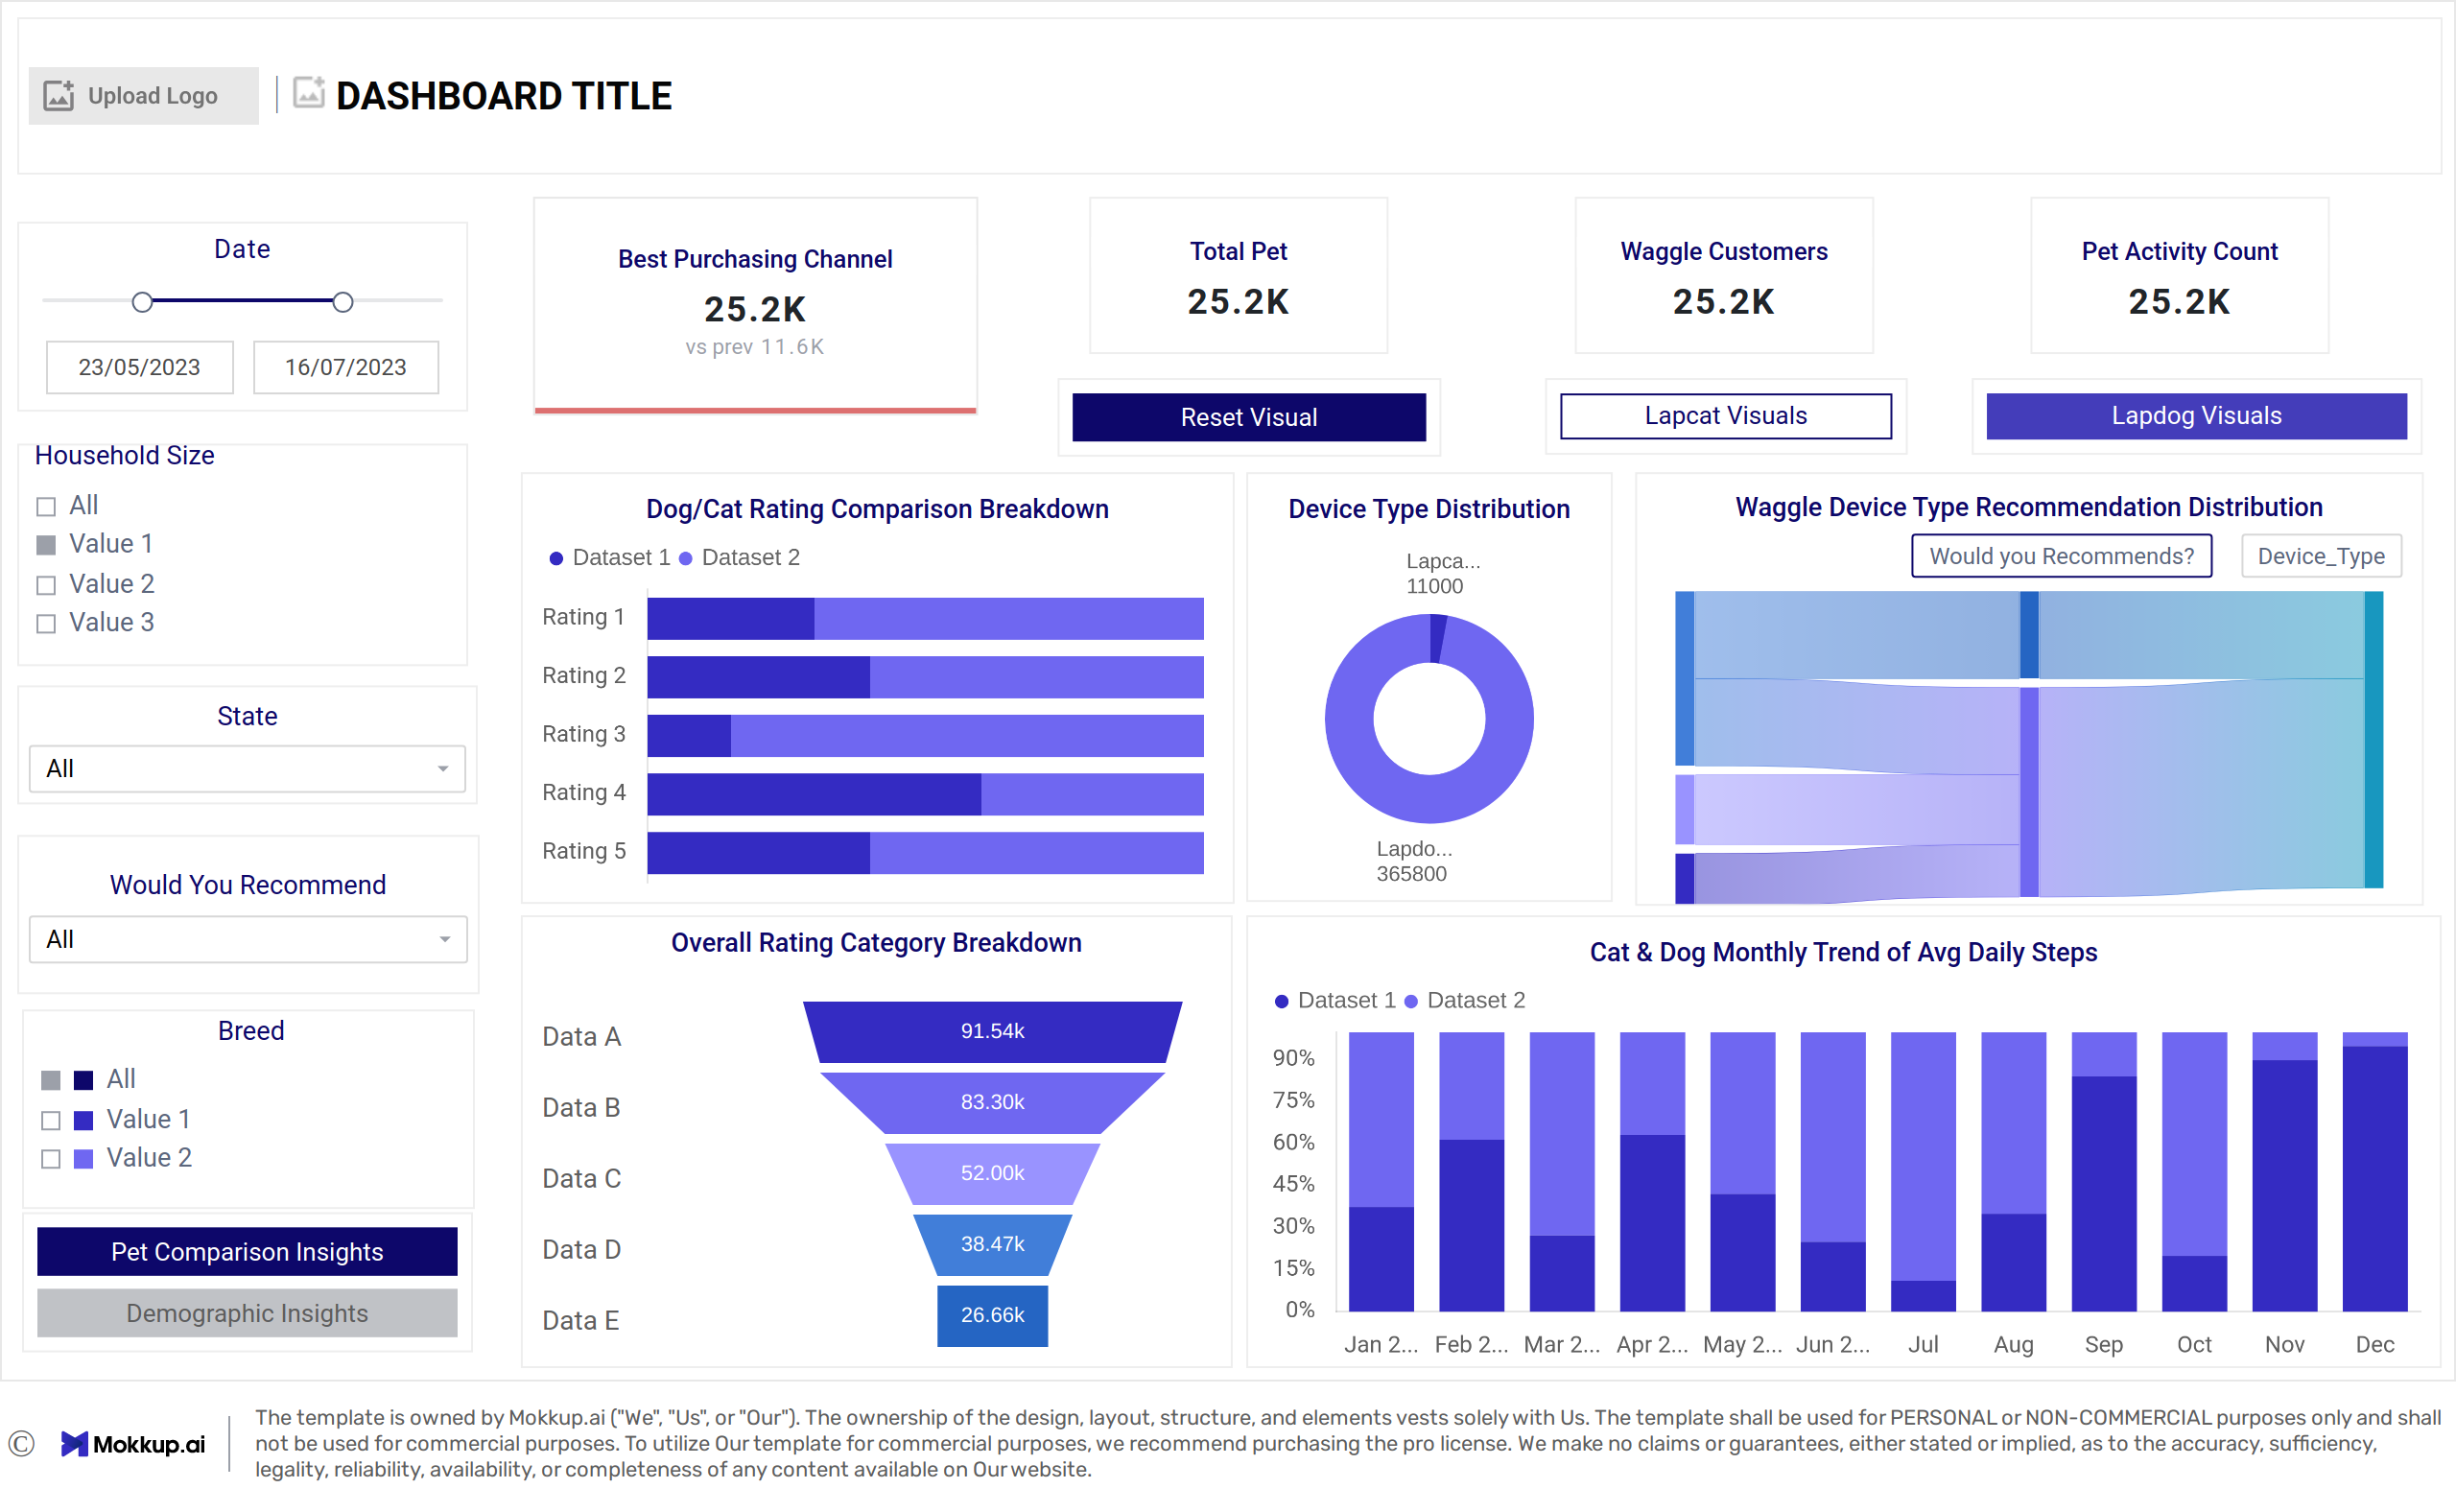

The dashboard page shown, as its layout file describes it:
{"tool":"powerbi","page":{"name":"Executive Summary","canvas":[1280,720],"ordinal":0},"visuals":[{"type":"shape","box":[243.4,7.2,1029.6,67.7],"z":0},{"type":"lineStackedColumnComboChart","title":"Cat & Dog Monthly Trend of Avg Daily Steps","fields":{"Category":["Date_Table.Month_Short"],"Y":["Avg(Tracker_Data.Daily_Steps)"],"Series":["Pet_Data.Dog/Cat"]},"box":[622.8,474.3,650.7,239.4],"z":0,"group":"g1"},{"type":"shape","title":"Waggle logo","box":[5.9,6.8,237.4,701.6],"z":1000},{"type":"hundredPercentStackedBarChart","title":"Dog/Cat Rating Comparison Breakdown","fields":{"Category":["Rating_Data.Rating","Rating_Data.Rating Category"],"Y":["CountNonNull(Pet_Data.Dog/Cat)"],"Series":["Pet_Data.Dog/Cat"]},"box":[253.8,199.8,356.6,260.9],"z":1000,"group":"g1"},{"type":"textbox","box":[254,15.6,570.6,58.6],"z":2000},{"type":"image","title":"Lapdog Image Exec","box":[848.1,25,178.6,38.7],"z":2000,"group":"g1"},{"type":"image","box":[12.7,7.8,203.2,78.2],"z":3000},{"type":"decompositionTreeVisual","title":"Waggle Device Distribution Recommends & Ratings Flow ","fields":{"Analyze":["CountNonNull(Rating_Data.Device_Type)"],"ExplainBy":["Rating_Data.Would You Recommend this Product?","Rating_Data.Device_Type"]},"box":[861.5,199.9,412.3,259.9],"z":3000,"group":"g1"},{"type":"funnel","title":"Overall Rating Category breakdown","fields":{"Category":["Rating_Data.Rating Category"],"Y":["CountNonNull(Rating_Data.Rating)"]},"box":[253.8,474.3,354.7,239.4],"z":4000,"group":"g1"},{"type":"shape","box":[6.8,614.6,236.5,15.6],"z":4000},{"type":"textbox","box":[12.7,104.5,203.2,30],"z":5000},{"type":"donutChart","title":"Device Type Distribution","fields":{"Category":["Rating_Data.Device_Type"],"Y":["CountNonNull(Tracker_Data.Activity_Minutes)"]},"box":[617.9,199.8,235.5,260.9],"z":5000,"group":"g1"},{"type":"cardVisual","title":"Best Purchasing Channel","fields":{"Data":["01_Dax Measures.Most Frequent Recomendation"]},"box":[265.8,85.8,243,95.8],"z":6000,"group":"g1"},{"type":"actionButton","title":"Reset Button","box":[560.4,163.2,198.6,31],"z":6000},{"type":"card","title":"Total Pet Count","fields":{"Values":["Count(Tracker_Data.Pet_ID)"]},"box":[579.7,85.8,156.9,67.4],"z":7000,"group":"g1"},{"type":"actionButton","title":"Lapcat Button","box":[794.5,163.2,199.5,31],"z":7000},{"type":"card","title":"Waggle Customers","fields":{"Values":["Count(Tracker_Data.Family_ID)"]},"box":[820,83.1,151.6,70.9],"z":8000,"group":"g1"},{"type":"actionButton","title":"Lapdog Button","box":[1050.7,163.2,198.6,31],"z":8000},{"type":"card","title":"Pet Activities Count","fields":{"Values":["CountNonNull(Tracker_Data.Daily_Steps)"]},"box":[1064.7,84.9,171.1,69.2],"z":9000,"group":"g1"},{"type":"group","id":"g1","title":"Executive Selection","box":[253.8,20.5,1020,693.2],"z":10000},{"type":"image","box":[1087.9,25.6,166.7,39.4],"z":10000,"group":"g1"},{"type":"textbox","box":[1026.7,20.5,61,58],"z":11000,"group":"g1"},{"type":"shape","box":[6.8,87,236.5,17.6],"z":12000},{"type":"pageNavigator","title":"Page navigator1","box":[14.7,668.3,203.2,30.3],"z":13000},{"type":"pageNavigator","title":"Page navigator1","box":[14.7,630.2,203.2,30.3],"z":14000},{"type":"slicer","title":"Breed","fields":{"Values":["Pet_Data.Breed"]},"box":[10.7,500.3,226.7,114.3],"z":15000},{"type":"slicer","title":"Slicer Would you Recommend","fields":{"Values":["Rating_Data.Would You Recommend this Product?","Rating_Data.Where Did You Buy This Product?"]},"box":[11.7,415.3,224.7,75.2],"z":16000},{"type":"slicer","title":"State","fields":{"Values":["Family_Data.State"]},"box":[10.7,346.9,226.7,60.6],"z":17000},{"type":"slicer","title":"Household_Size","fields":{"Values":["Family_Data.Household Category"]},"box":[9.8,244.3,226.7,94.8],"z":18000},{"type":"slicer","title":"Date","fields":{"Values":["Date_Table.Date"]},"box":[9.8,141.7,228.6,95.8],"z":19000}]}

Visuals, with their boxes on the page's 1280x720 design canvas (x1, y1, x2, y2). These are canvas units, not pixel positions in the 2456x1512 screenshot, which may show the page scaled, cropped or inside an application window:
shape: x1=243, y1=7, x2=1273, y2=75
"Cat & Dog Monthly Trend of Avg Daily Steps" lineStackedColumnComboChart: x1=623, y1=474, x2=1274, y2=714
"Waggle logo" shape: x1=6, y1=7, x2=243, y2=708
"Dog/Cat Rating Comparison Breakdown" hundredPercentStackedBarChart: x1=254, y1=200, x2=610, y2=461
textbox: x1=254, y1=16, x2=825, y2=74
"Lapdog Image Exec" image: x1=848, y1=25, x2=1027, y2=64
image: x1=13, y1=8, x2=216, y2=86
"Waggle Device Distribution Recommends & Ratings Flow " decompositionTreeVisual: x1=862, y1=200, x2=1274, y2=460
"Overall Rating Category breakdown" funnel: x1=254, y1=474, x2=608, y2=714
shape: x1=7, y1=615, x2=243, y2=630
textbox: x1=13, y1=104, x2=216, y2=134
"Device Type Distribution" donutChart: x1=618, y1=200, x2=853, y2=461
"Best Purchasing Channel" cardVisual: x1=266, y1=86, x2=509, y2=182
"Reset Button" actionButton: x1=560, y1=163, x2=759, y2=194
"Total Pet Count" card: x1=580, y1=86, x2=737, y2=153
"Lapcat Button" actionButton: x1=794, y1=163, x2=994, y2=194
"Waggle Customers" card: x1=820, y1=83, x2=972, y2=154
"Lapdog Button" actionButton: x1=1051, y1=163, x2=1249, y2=194
"Pet Activities Count" card: x1=1065, y1=85, x2=1236, y2=154
"Executive Selection" group: x1=254, y1=20, x2=1274, y2=714
image: x1=1088, y1=26, x2=1255, y2=65
textbox: x1=1027, y1=20, x2=1088, y2=78
shape: x1=7, y1=87, x2=243, y2=105
"Page navigator1" pageNavigator: x1=15, y1=668, x2=218, y2=699
"Page navigator1" pageNavigator: x1=15, y1=630, x2=218, y2=660
"Breed" slicer: x1=11, y1=500, x2=237, y2=615
"Slicer Would you Recommend" slicer: x1=12, y1=415, x2=236, y2=490
"State" slicer: x1=11, y1=347, x2=237, y2=408
"Household_Size" slicer: x1=10, y1=244, x2=236, y2=339
"Date" slicer: x1=10, y1=142, x2=238, y2=238
